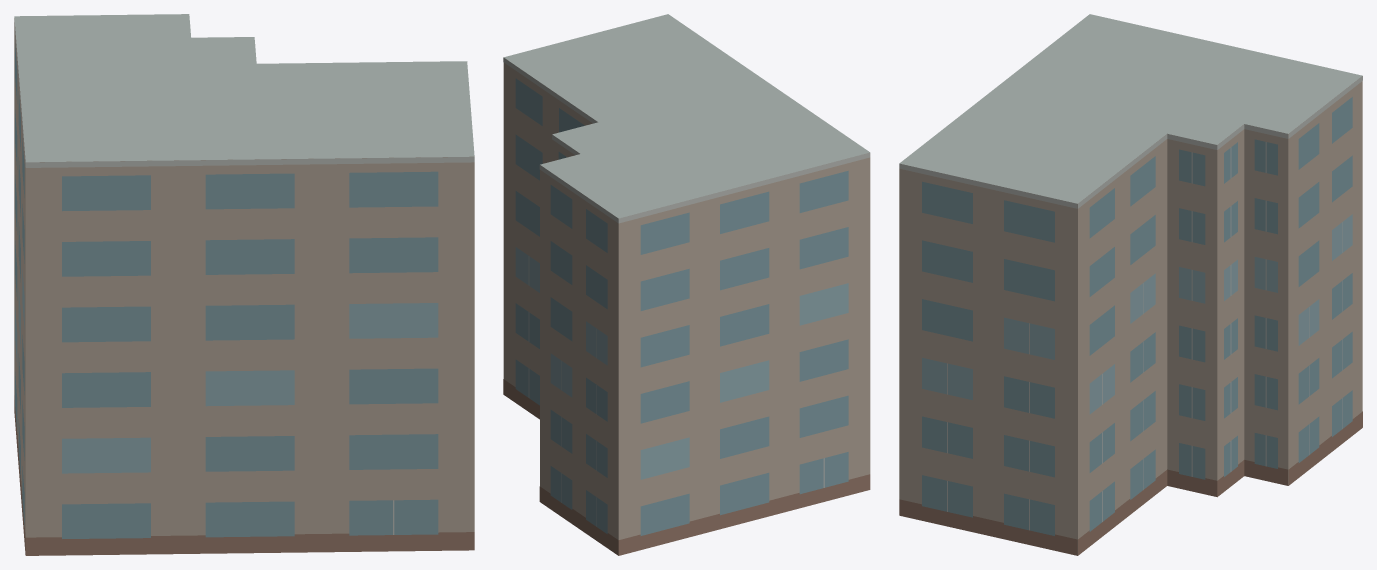
The model's file is survey-upis-32671301.glb.
3 views of the same model, side by side, from view 1: azimuth 30°, elevation 25°; view 2: azimuth 150°, elevation 25°; view 3: azimuth 270°, elevation 25° (orthographic). The views are drawn at different scales.
Visible parts, largest first — view 1: survey-upis-32671301.tmp; view 2: survey-upis-32671301.tmp; view 3: survey-upis-32671301.tmp.
Part boxes in pixels (x1,y1,x2,y2): survey-upis-32671301.tmp: [14, 14, 474, 555]; survey-upis-32671301.tmp: [503, 14, 870, 555]; survey-upis-32671301.tmp: [899, 14, 1362, 555].
Size of the model in its own units: 19.43 by 16.8 by 20.05.
